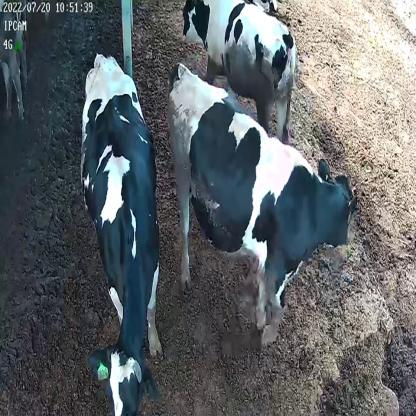cow: (164, 60, 362, 341), (78, 52, 162, 416), (178, 0, 298, 138)
